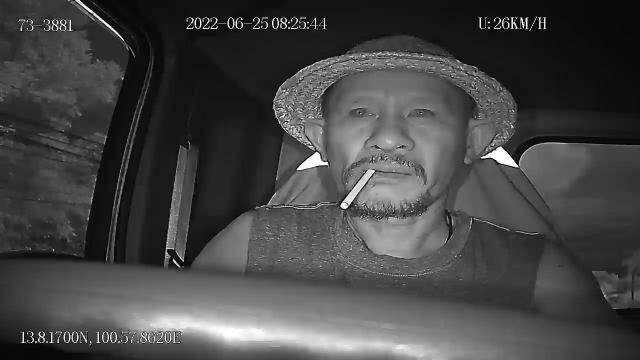SafeDriving: (401, 100, 441, 124), (344, 98, 381, 122)
Smoking: (338, 166, 378, 210)
